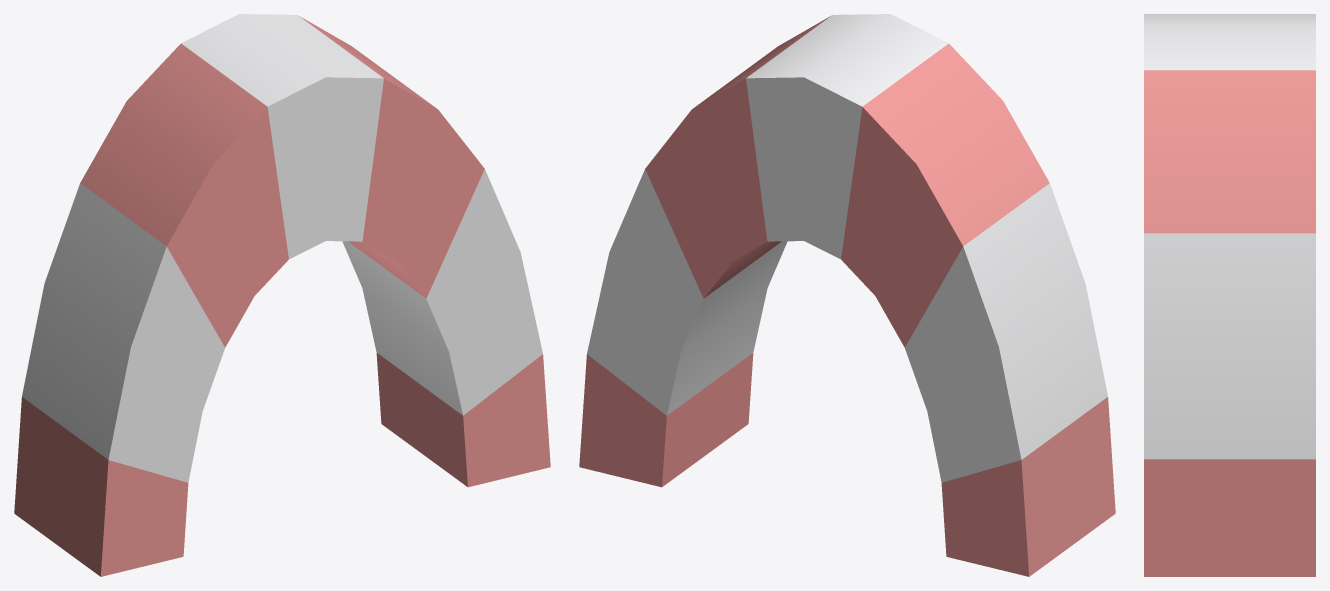
The model's file is obstacle_overhead.glb.
The picture shows the model from 3 angles, left to right: view 1: azimuth 30°, elevation 25°; view 2: azimuth 150°, elevation 25°; view 3: azimuth 270°, elevation 25°; orthographic projection.
Visible parts, largest first — view 1: overheadRoundColored(Clone); view 2: overheadRoundColored(Clone); view 3: overheadRoundColored(Clone).
Part boxes in pixels (box(x1,y1,x2,y2)): overheadRoundColored(Clone): box(14, 14, 550, 576); overheadRoundColored(Clone): box(579, 14, 1115, 576); overheadRoundColored(Clone): box(1144, 14, 1315, 576).
Bounding box in the file's own units: 1.8 × 1.7 × 0.5999.
